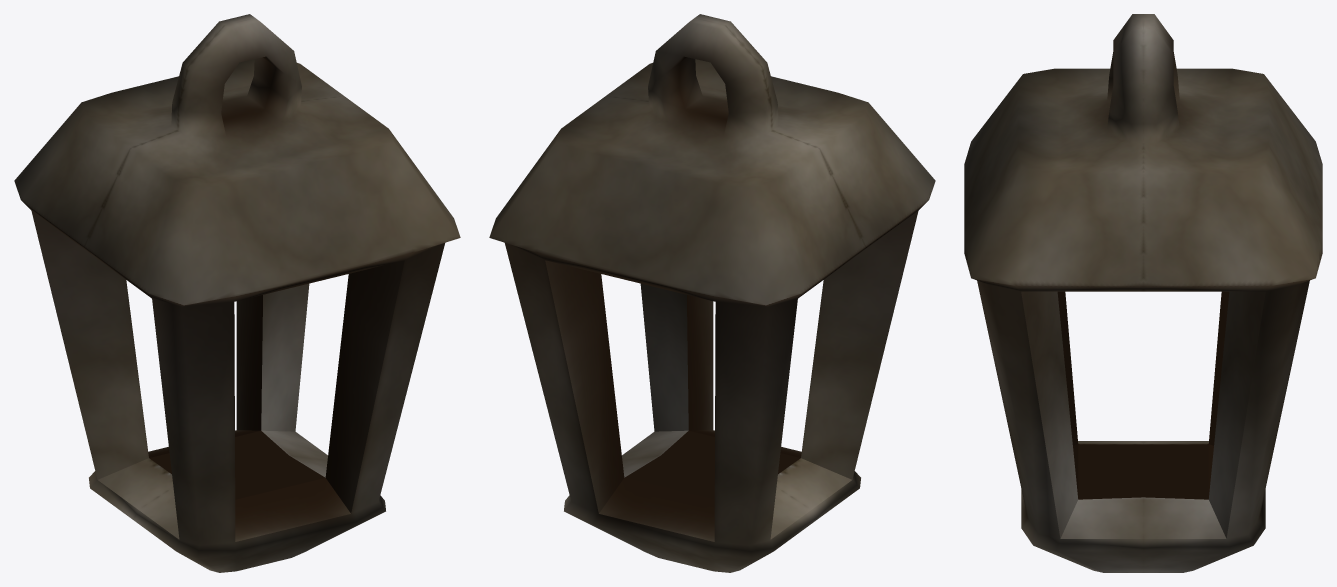
File: lantern.obj
The picture shows the model from 3 angles, left to right: view 1: azimuth 30°, elevation 25°; view 2: azimuth 150°, elevation 25°; view 3: azimuth 270°, elevation 25°; orthographic projection.
Parts seen in each view (by area): view 1: Mesh1; view 2: Mesh1; view 3: Mesh1.
Part boxes in pixels (bbox=[...]): Mesh1: bbox=[14, 14, 460, 572]; Mesh1: bbox=[489, 14, 935, 572]; Mesh1: bbox=[964, 14, 1322, 572].
Size of the model in its own units: 0.6125 by 0.9977 by 0.6125.
1 material, 1 textured.
